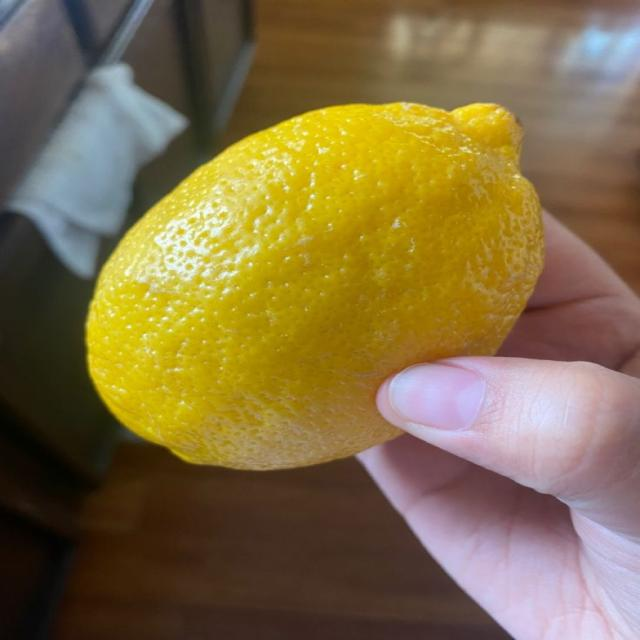lemon: (87, 104, 542, 469)
